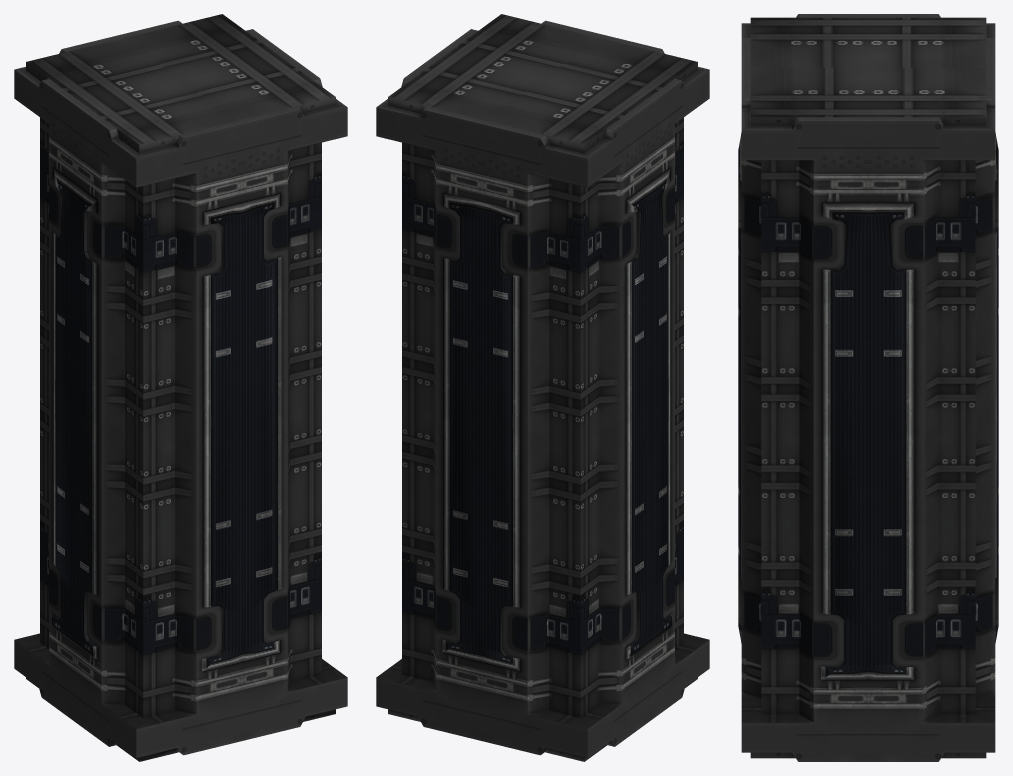
Rendered from Panel_C_Column_2_L3.FBX.
The picture shows the model from 3 angles, left to right: view 1: azimuth 30°, elevation 25°; view 2: azimuth 150°, elevation 25°; view 3: azimuth 270°, elevation 25°; orthographic projection. The views are drawn at different scales.
Parts seen in each view (by area): view 1: Panel_C_Column_2_L3; view 2: Panel_C_Column_2_L3; view 3: Panel_C_Column_2_L3.
Boxes of the visible parts, x1,y1,x2,y2 form: Panel_C_Column_2_L3: (14, 14, 347, 761); Panel_C_Column_2_L3: (376, 14, 709, 761); Panel_C_Column_2_L3: (738, 14, 998, 761).
Bounding box in the file's own units: 110 × 300 × 110.
